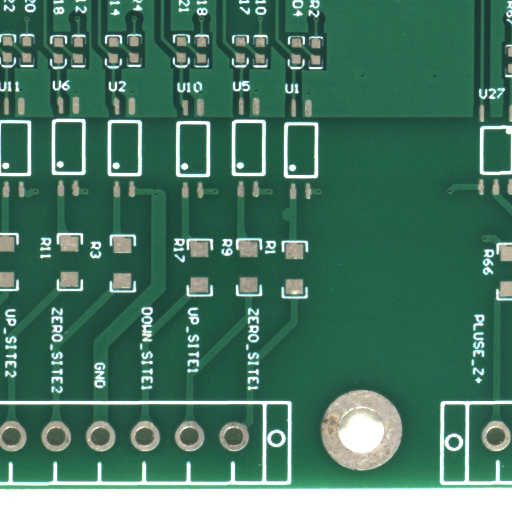Spur: (286, 213, 296, 227)
